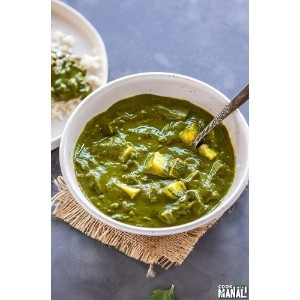spinach_brain food: (79, 101, 216, 222)
